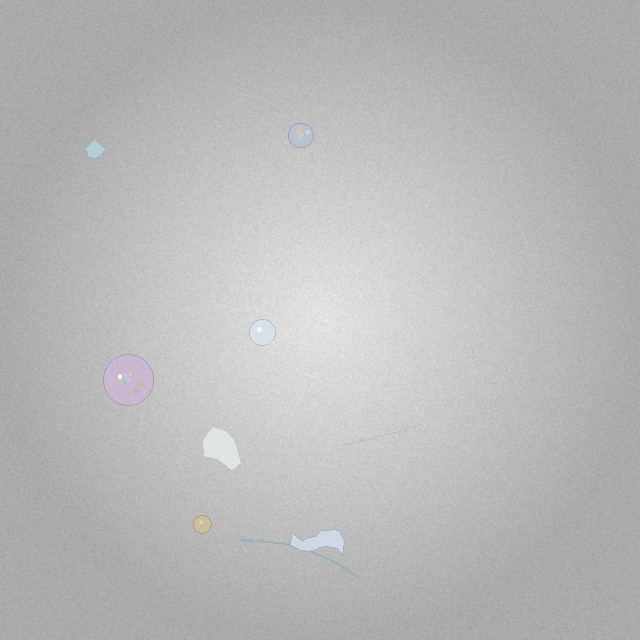fiber: (238, 537, 362, 582), (337, 423, 423, 448)
film: (290, 530, 344, 555)
foam: (103, 355, 154, 405), (289, 123, 314, 148)
fragment: (203, 427, 241, 470), (86, 140, 107, 159)
pellet: (249, 319, 275, 345), (194, 516, 211, 533)
